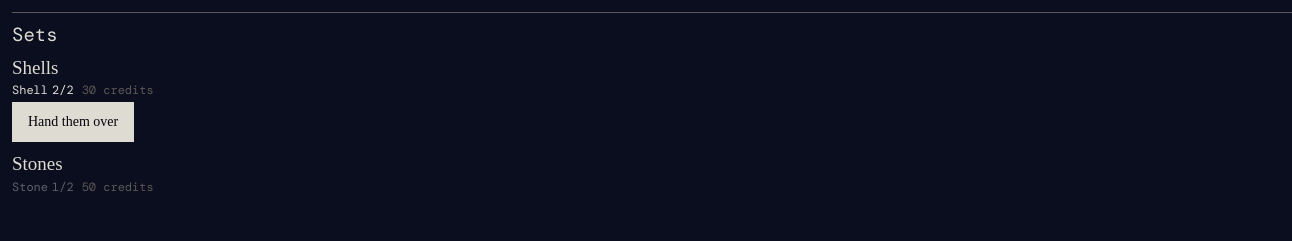
Scenario: offers Hand them over only on complete sets and sells through sell_set
The image size is (1292, 241).
Expected: the text "Shells" is shown, x1=12 y1=56 x2=58 y2=78
Expected: the text "1/2" is shown, x1=12 y1=178 x2=74 y2=194
Click the button "Hand them over" at (73, 122), box x1=12 y1=102 x2=134 y2=142
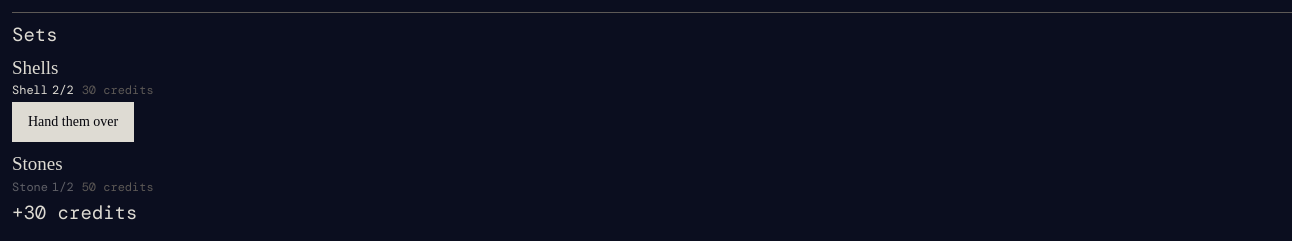
Expected: the text "+30 credits" is shown, x1=12 y1=200 x2=137 y2=224
